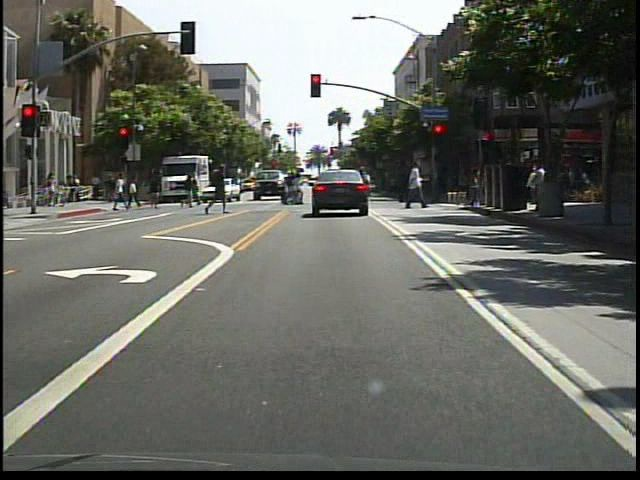person: (206, 163, 232, 219), (401, 159, 427, 211), (322, 168, 343, 214), (179, 172, 199, 213), (113, 172, 131, 217)
